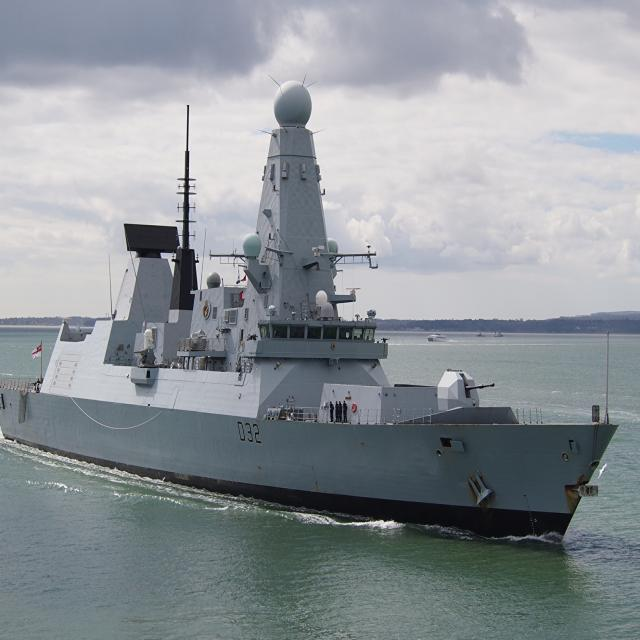navalvessels: (2, 86, 615, 548)
